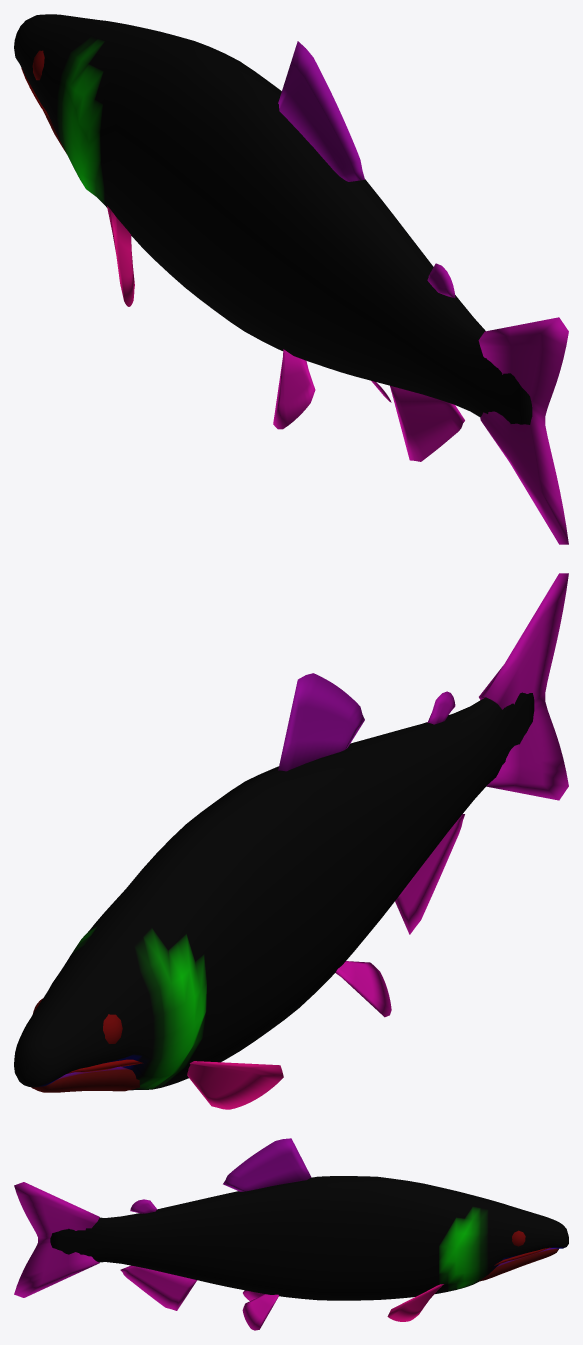
Rendered from sockeye_migrating_lo.glb.
3 renders of one model, top to bottom at view 1: azimuth 30°, elevation 25°; view 2: azimuth 150°, elevation 25°; view 3: azimuth 270°, elevation 25°, orthographic. The views are drawn at different scales.
Parts seen in each view (by area): view 1: sockeye_migrating_lo; view 2: sockeye_migrating_lo; view 3: sockeye_migrating_lo.
Part boxes in pixels (x1,y1,x2,y2): sockeye_migrating_lo: [14, 14, 568, 544]; sockeye_migrating_lo: [14, 573, 568, 1109]; sockeye_migrating_lo: [14, 1138, 568, 1330].
Size of the model in its own units: 0.1019 by 0.2115 by 0.5966.
